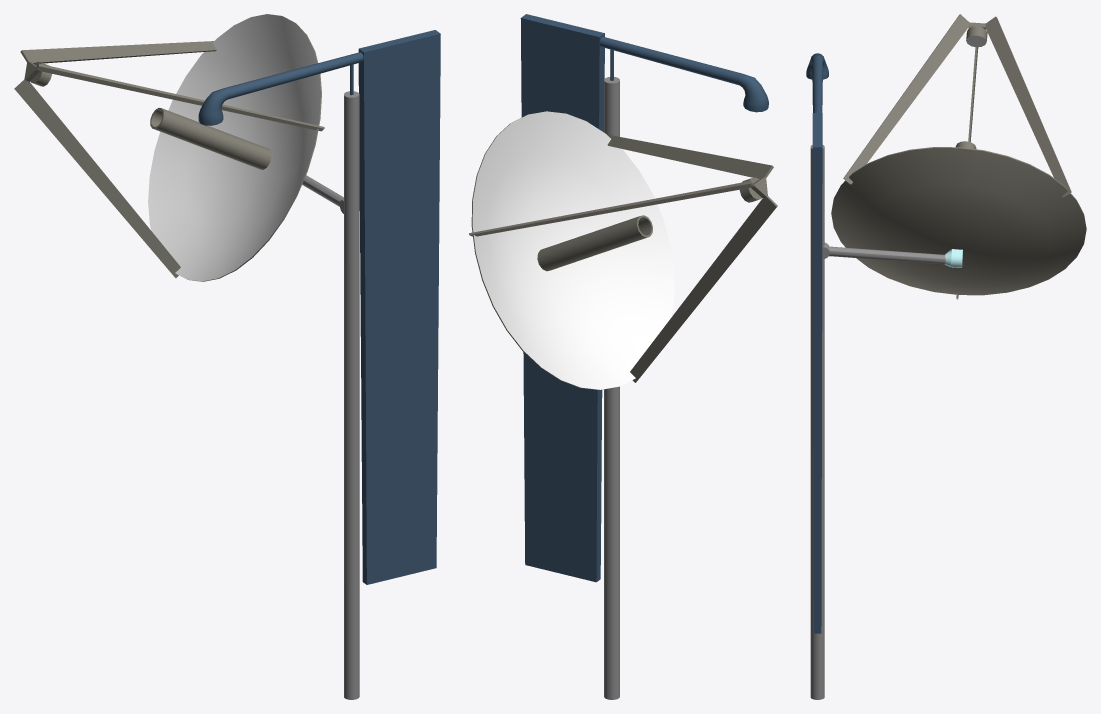
Rendered from Light_Tube.glb.
The picture shows the model from 3 angles, left to right: view 1: azimuth 30°, elevation 25°; view 2: azimuth 150°, elevation 25°; view 3: azimuth 270°, elevation 25°; orthographic projection. The views are drawn at different scales.
Parts seen in each view (by area): view 1: LightTube_Large_NightLighting_LOD0, LightTube_Large_Mirrors_LOD0, LightTube_Large_Pole_LOD0; view 2: LightTube_Large_Mirrors_LOD0, LightTube_Large_NightLighting_LOD0, LightTube_Large_Pole_LOD0; view 3: LightTube_Large_Mirrors_LOD0, LightTube_Large_NightLighting_LOD0, LightTube_Large_Pole_LOD0.
Part boxes in pixels (bbox=[...]): LightTube_Large_NightLighting_LOD0: bbox=[198, 30, 440, 584]; LightTube_Large_Mirrors_LOD0: bbox=[14, 14, 324, 281]; LightTube_Large_Pole_LOD0: bbox=[302, 91, 359, 699]; LightTube_Large_Mirrors_LOD0: bbox=[469, 111, 777, 390]; LightTube_Large_NightLighting_LOD0: bbox=[520, 14, 768, 582]; LightTube_Large_Pole_LOD0: bbox=[604, 77, 619, 699]; LightTube_Large_Mirrors_LOD0: bbox=[831, 14, 1086, 299]; LightTube_Large_NightLighting_LOD0: bbox=[806, 53, 828, 633]; LightTube_Large_Pole_LOD0: bbox=[810, 145, 945, 699].
Size of what is drawn, in the model's own units: 21.21 by 38.86 by 16.79.
